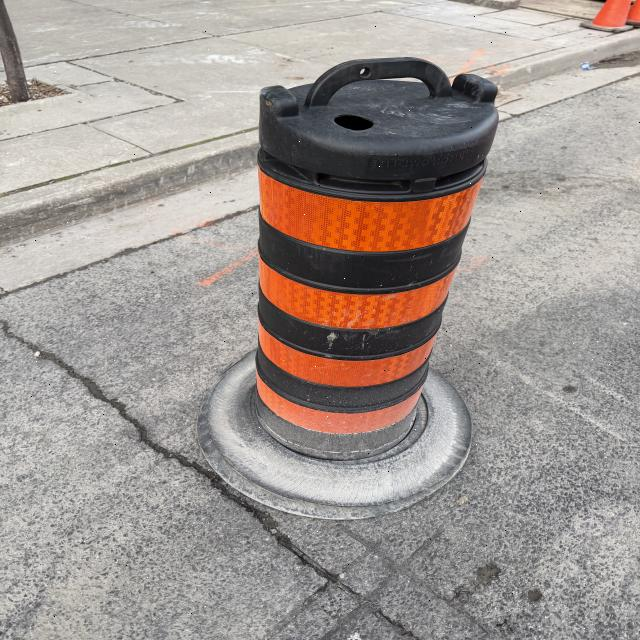Teraffic Barrel: (200, 58, 498, 517), (580, 0, 634, 33), (626, 0, 640, 27)
